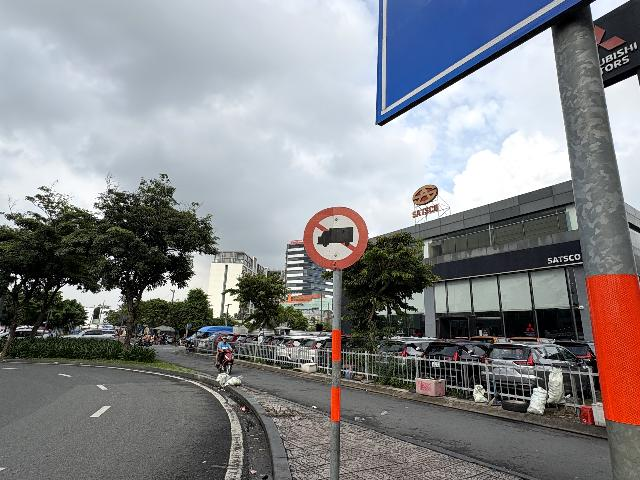cam-xe-tai: (303, 206, 369, 270)
